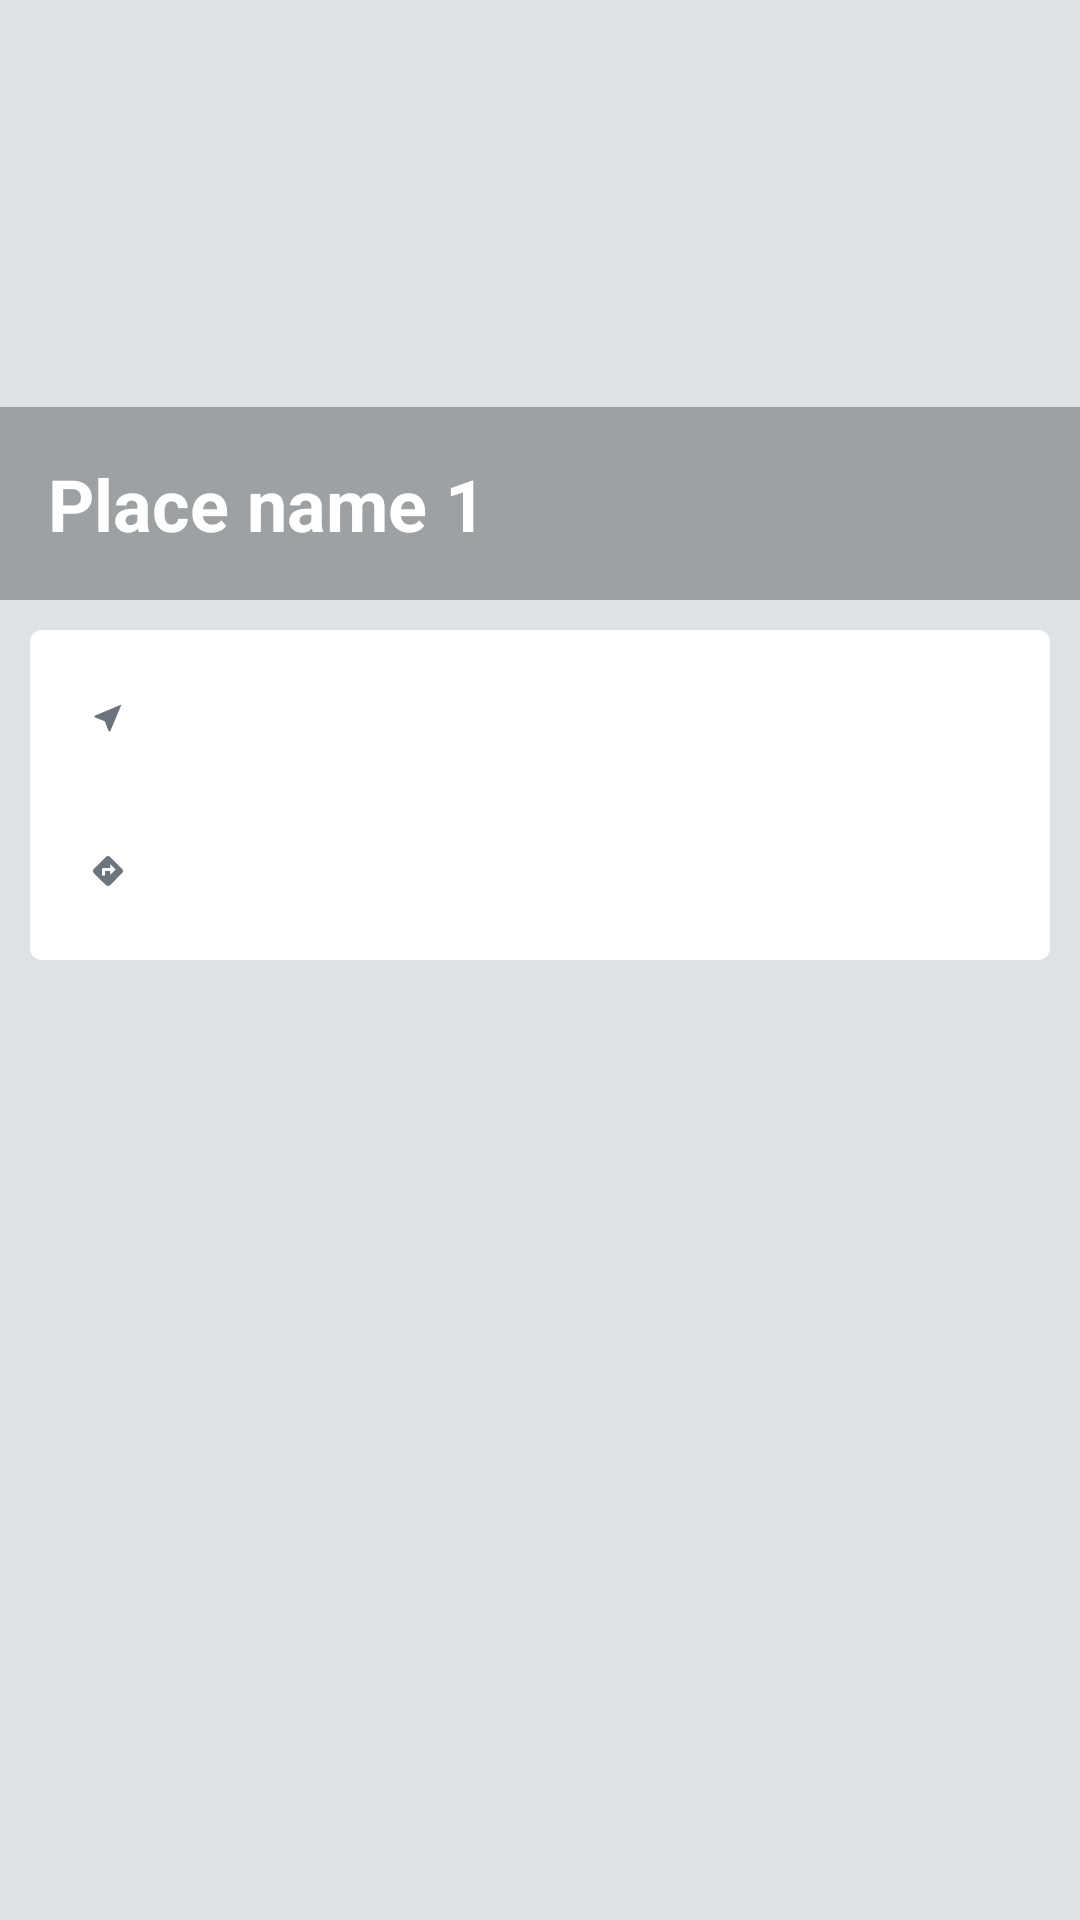

Icons on this 1080px×1920px Android screen, each with its box as (x1, y1, x2, y2):
directions: (93, 856, 123, 886)
near me darker: (94, 705, 121, 732)
